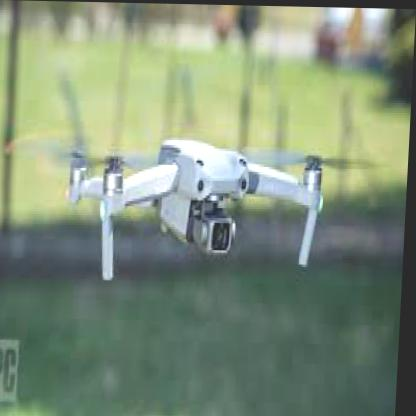UAS: (66, 135, 327, 283)
